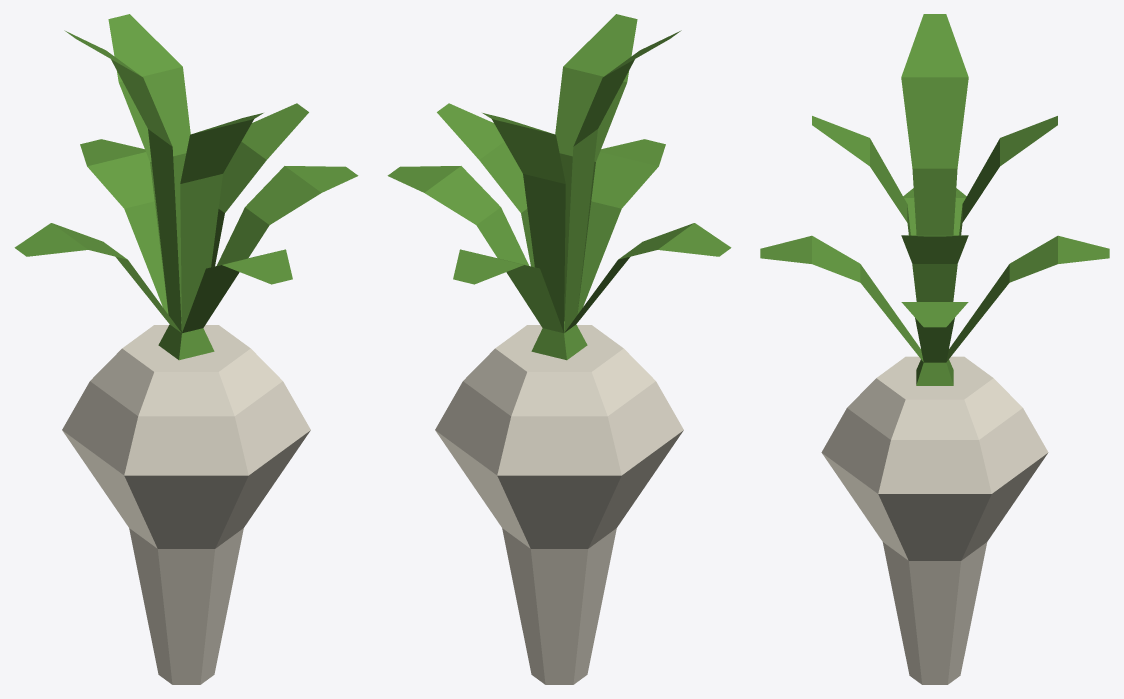
The model's file is crop_turnip.glb.
3 renders of one model, left to right at view 1: azimuth 30°, elevation 25°; view 2: azimuth 150°, elevation 25°; view 3: azimuth 270°, elevation 25°, orthographic. The views are drawn at different scales.
Visible parts, largest first — view 1: crop_turnip; view 2: crop_turnip; view 3: crop_turnip.
Boxes of the visible parts, left/top/right/bottom form: crop_turnip: left=14, top=14, right=358, bottom=684; crop_turnip: left=387, top=14, right=731, bottom=684; crop_turnip: left=760, top=14, right=1109, bottom=684.
Size of the model in its own units: 0.2059 by 0.3964 by 0.2059.
